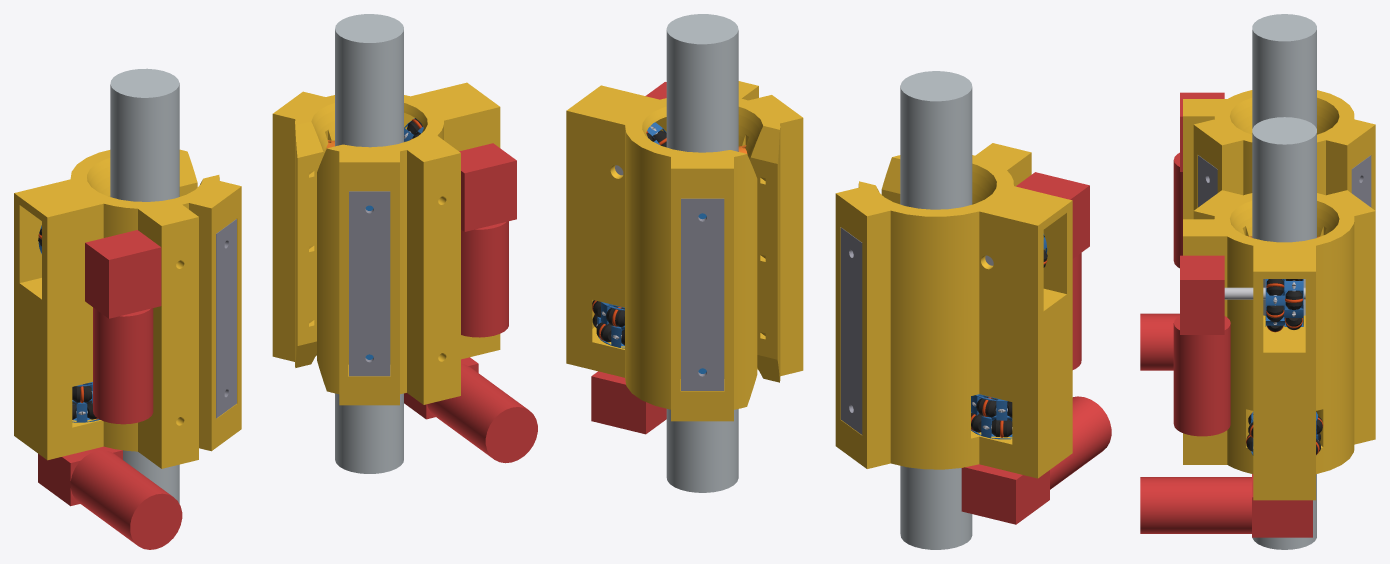
File: cart-wheel-two-hands-v2.glb
The picture shows the model from 3 angles, left to right: view 1: azimuth 30°, elevation 25°; view 2: azimuth 150°, elevation 25°; view 3: azimuth 270°, elevation 25°; orthographic projection. The views are drawn at different scales.
Parts seen in each view (by area): view 1: sleeve_C, sleeve_B, pipe_C, pipe_B, C_m60_cap, B_roll_motor, B_drive_motor, B_drive_gearbox, C_roll_motor, C_drive_motor, C_drive_gearbox, B_m60_cap (+1 smaller); view 2: sleeve_B, sleeve_C, pipe_B, pipe_C, C_p60_cap, B_p60_cap, B_roll_gearbox, C_roll_gearbox, B_roll_motor, B_drive_gearbox, B_drive_motor, B_roll_wheel_rollers (+2 smaller); view 3: sleeve_C, sleeve_B, pipe_C, pipe_B, C_roll_motor, C_drive_motor, C_drive_gearbox, C_roll_gearbox, B_roll_motor, C_drive_wheel_rollers, B_drive_motor, C_drive_wheel_hub (+5 smaller).
Part boxes in pixels (<box>): sleeve_C: <box>272,82,500,405</box>; sleeve_B: <box>14,149,241,468</box>; pipe_C: <box>335,14,403,473</box>; pipe_B: <box>110,68,179,503</box>; C_m60_cap: <box>349,191,390,376</box>; B_roll_motor: <box>70,450,182,549</box>; B_drive_motor: <box>93,307,153,424</box>; B_drive_gearbox: <box>85,230,161,318</box>; C_roll_motor: <box>427,363,537,463</box>; C_drive_motor: <box>461,221,508,337</box>; C_drive_gearbox: <box>459,143,516,231</box>; B_m60_cap: <box>216,219,236,418</box>; sleeve_B: <box>835,143,1072,478</box>; sleeve_C: <box>566,81,803,421</box>; pipe_B: <box>900,71,972,549</box>; pipe_C: <box>666,14,738,492</box>; C_p60_cap: <box>681,198,724,390</box>; B_p60_cap: <box>840,227,862,434</box>; B_roll_gearbox: <box>961,464,1049,524</box>; C_roll_gearbox: <box>591,371,666,434</box>; B_roll_motor: <box>1050,396,1111,489</box>; B_drive_gearbox: <box>1016,172,1089,258</box>; B_drive_motor: <box>1072,253,1081,369</box>; B_roll_wheel_rollers: <box>971,397,1012,437</box>; sleeve_C: <box>1183,190,1375,500</box>; sleeve_B: <box>1183,90,1375,219</box>; pipe_C: <box>1252,117,1316,549</box>; pipe_B: <box>1252,14,1316,128</box>; C_roll_motor: <box>1140,477,1251,533</box>; C_drive_motor: <box>1173,316,1230,436</box>; C_drive_gearbox: <box>1180,255,1224,334</box>; C_roll_gearbox: <box>1252,474,1312,537</box>; B_roll_motor: <box>1140,313,1179,370</box>; C_drive_wheel_rollers: <box>1266,279,1302,331</box>; B_drive_motor: <box>1173,152,1182,268</box>; C_drive_wheel_hub: <box>1265,279,1303,326</box>.
Size of the model in its own units: 242 by 220 by 116.
